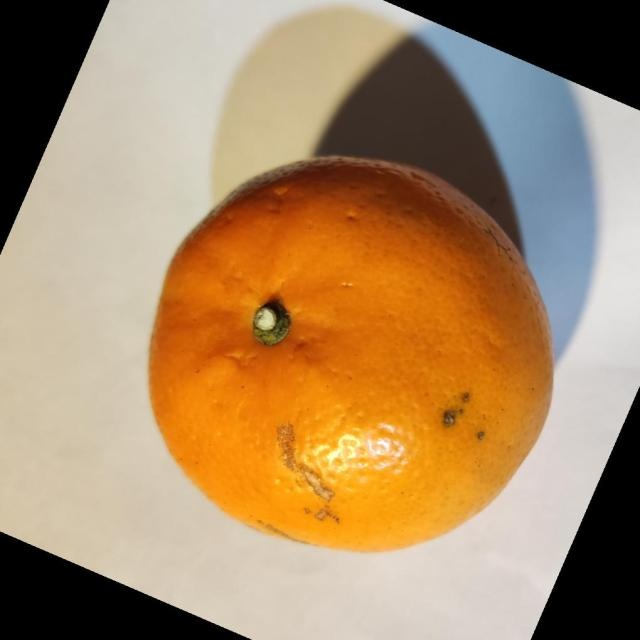agrume: (146, 154, 555, 553)
